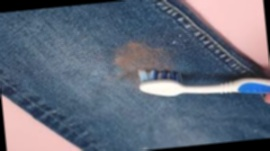earth: (119, 44, 158, 68)
